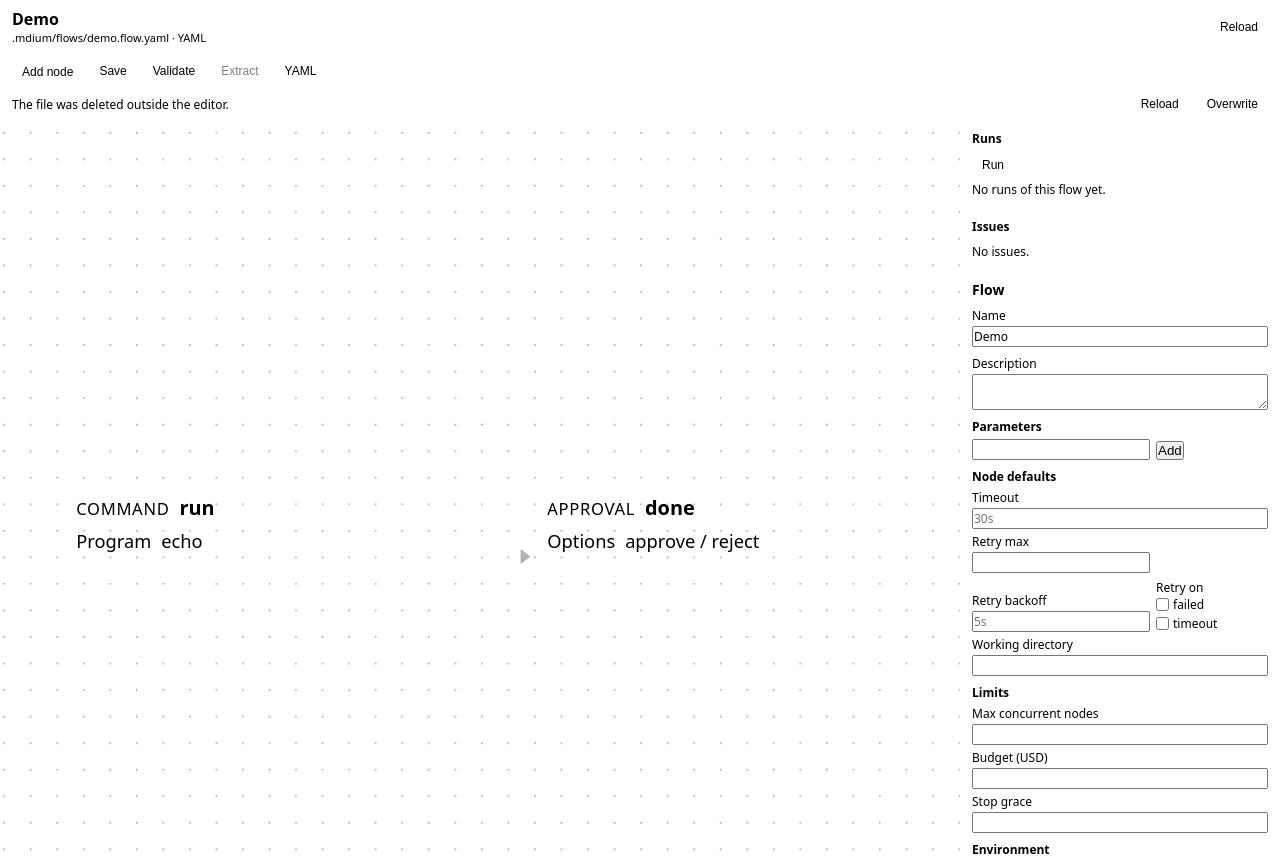
Test: flow workspace editing › shows the deleted notice and re-creates the file on overwrite
Expected: the number of elements with class "react-flow__node" is 2, x1=76 y1=494 x2=215 y2=553; x1=547 y1=494 x2=759 y2=553
Expected: the message "The file was deleted outside the editor. Reload Overwrite" is shown, x1=0 y1=88 x2=1279 y2=120
Click the button "Overwrite": (1232, 104) x1=1197 y1=94 x2=1268 y2=114
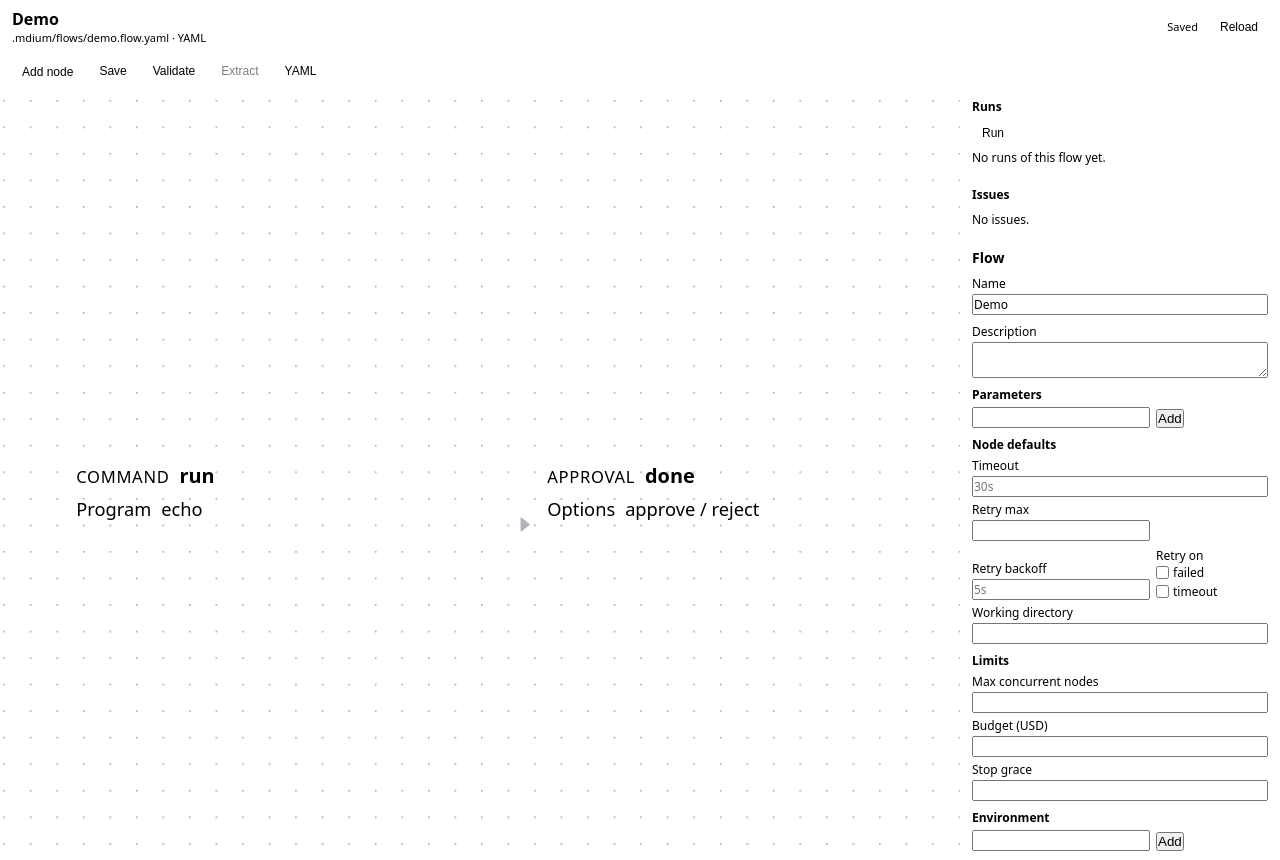
Result: the message with class "flow-notice" is gone
